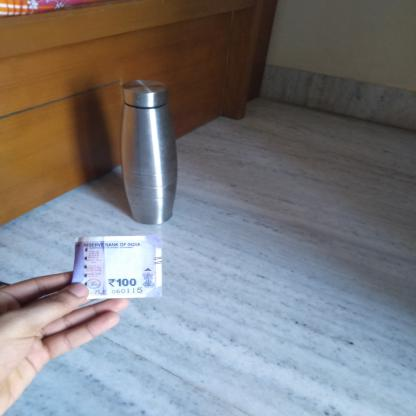New100Front: (66, 238, 162, 296)
